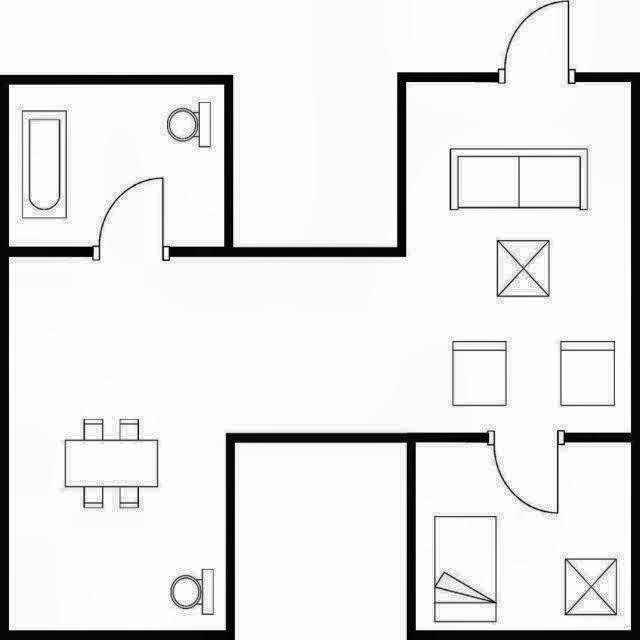room: (9, 82, 632, 630), (416, 442, 631, 630), (9, 84, 224, 246)
